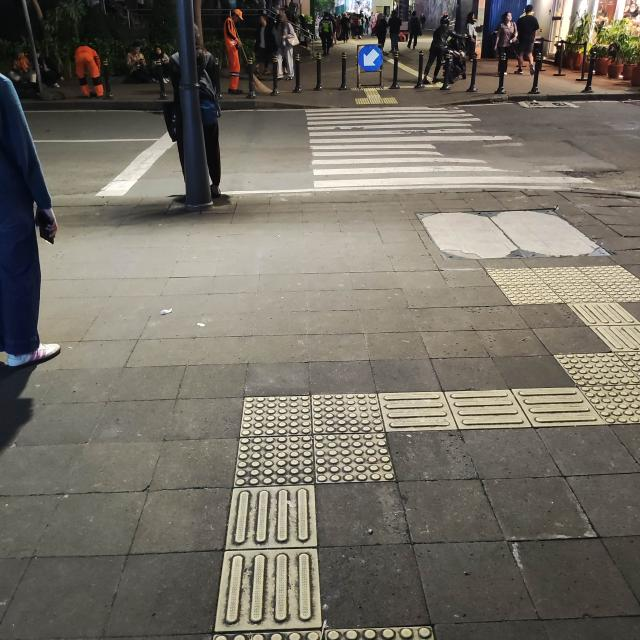kanan: (182, 362, 544, 526)
